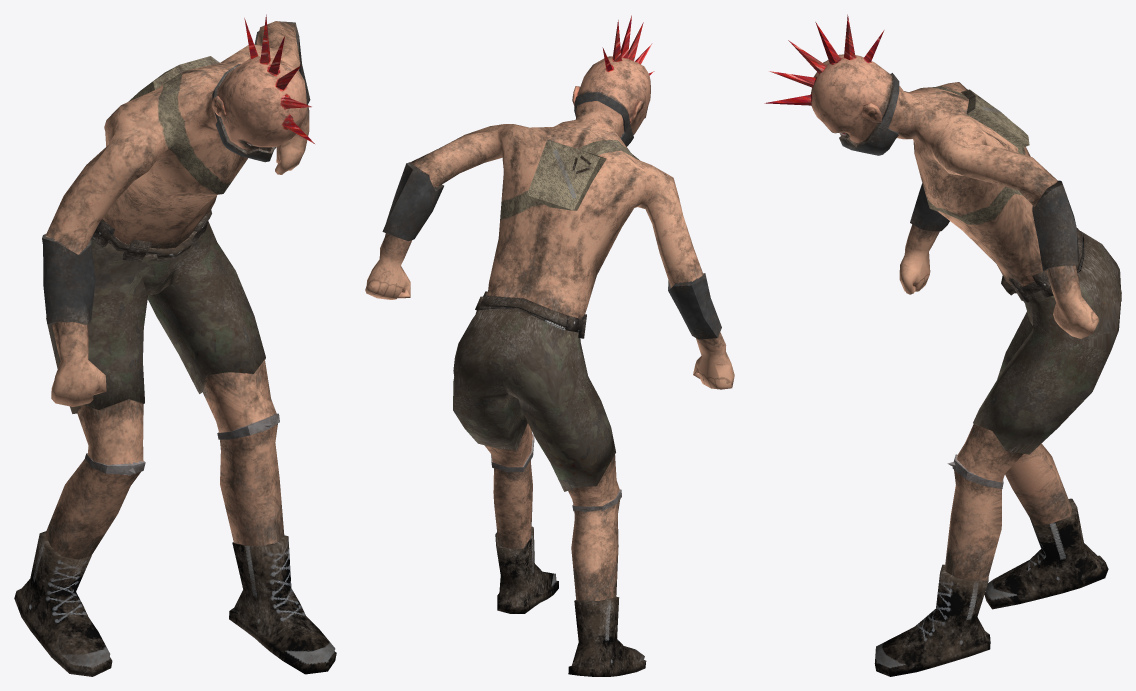
The model's file is Anim_cogerobjeto_npc2.0023.obj.
The picture shows the model from 3 angles, left to right: view 1: azimuth 30°, elevation 25°; view 2: azimuth 150°, elevation 25°; view 3: azimuth 270°, elevation 25°; orthographic projection. The views are drawn at different scales.
Parts seen in each view (by area): view 1: polySurface1; view 2: polySurface1; view 3: polySurface1.
Boxes of the visible parts, x1,y1,x2,y2 form: polySurface1: (14,14,336,676); polySurface1: (365,15,734,676); polySurface1: (764,14,1121,676).
Size of the model in its own units: 4.62 by 8.85 by 4.57.
